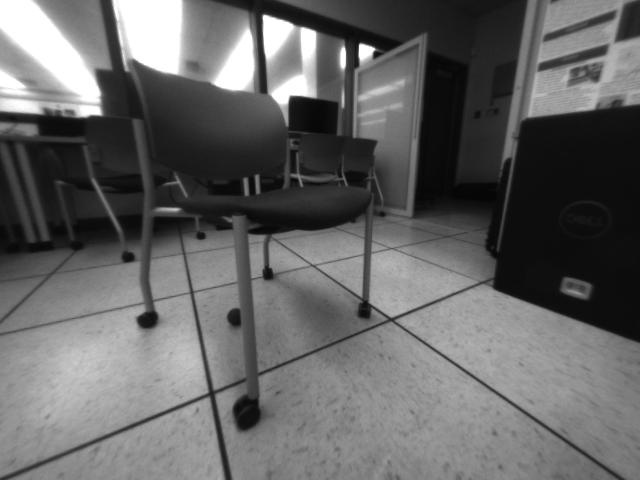dogtoy: (219, 301, 244, 333)
